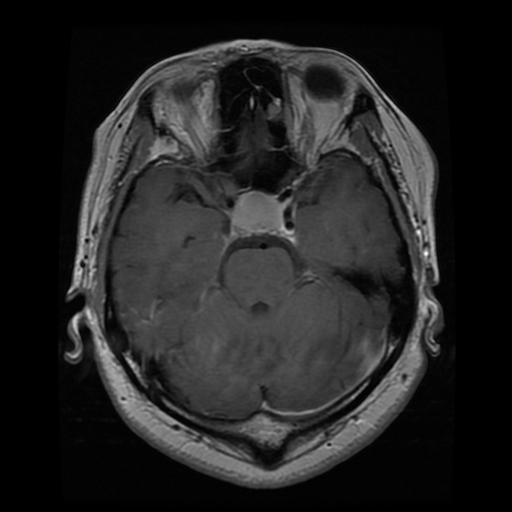Pituirity_tumour: (231, 189, 284, 233)
